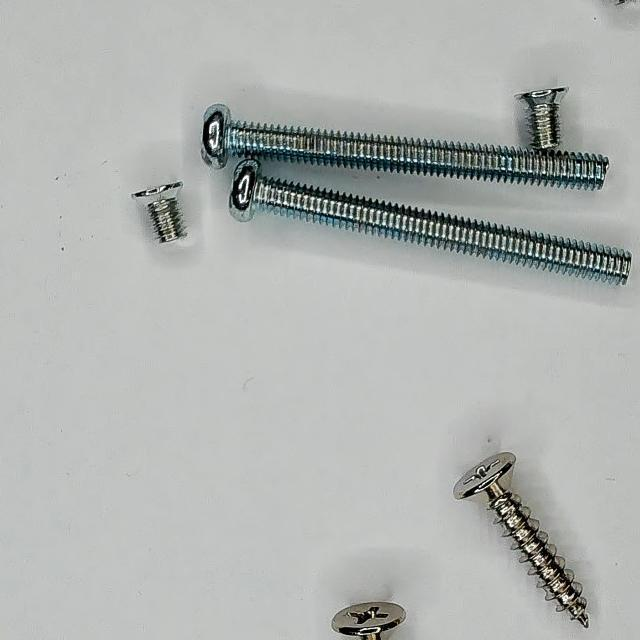Dry Waste: (81, 28, 639, 640)
